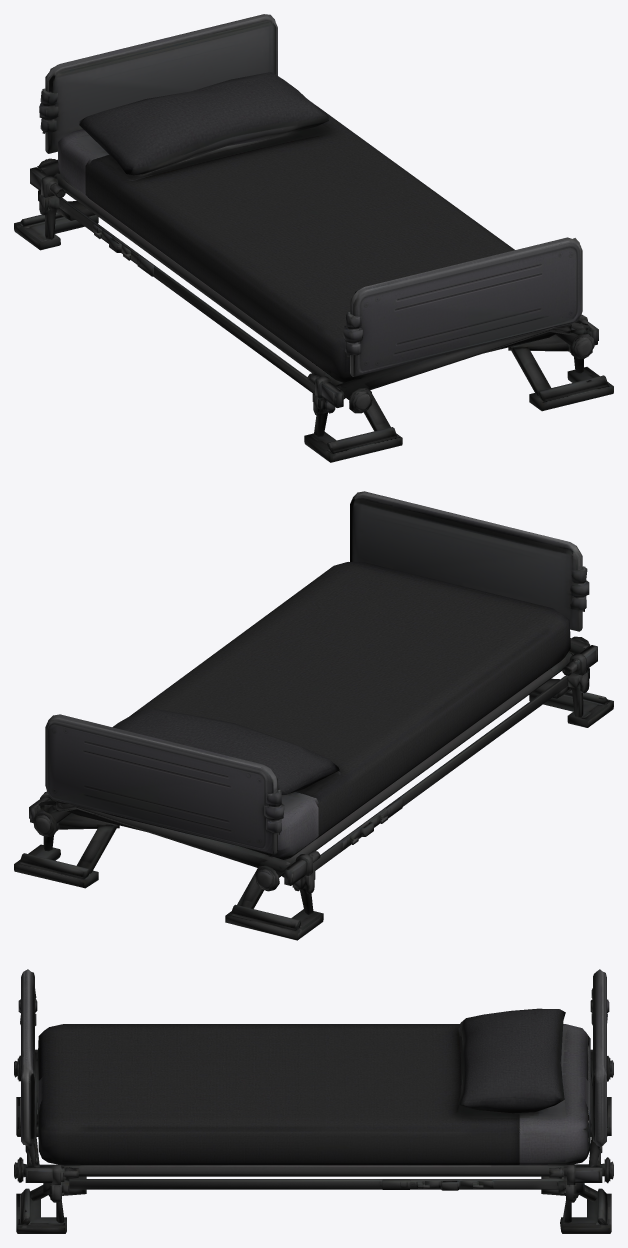
File: Bad_BlenderFBX.fbx
3 views of the same model, one above another, from view 1: azimuth 30°, elevation 25°; view 2: azimuth 150°, elevation 25°; view 3: azimuth 270°, elevation 25° (orthographic). The views are drawn at different scales.
Parts seen in each view (by area): view 1: meshes[0]; view 2: meshes[0]; view 3: meshes[0].
Boxes of the visible parts, x1,y1,x2,y2 form: meshes[0]: [14, 14, 613, 462]; meshes[0]: [14, 491, 613, 940]; meshes[0]: [14, 969, 613, 1233].
Size of the model in its own units: 0.5098 by 0.2793 by 0.998.
